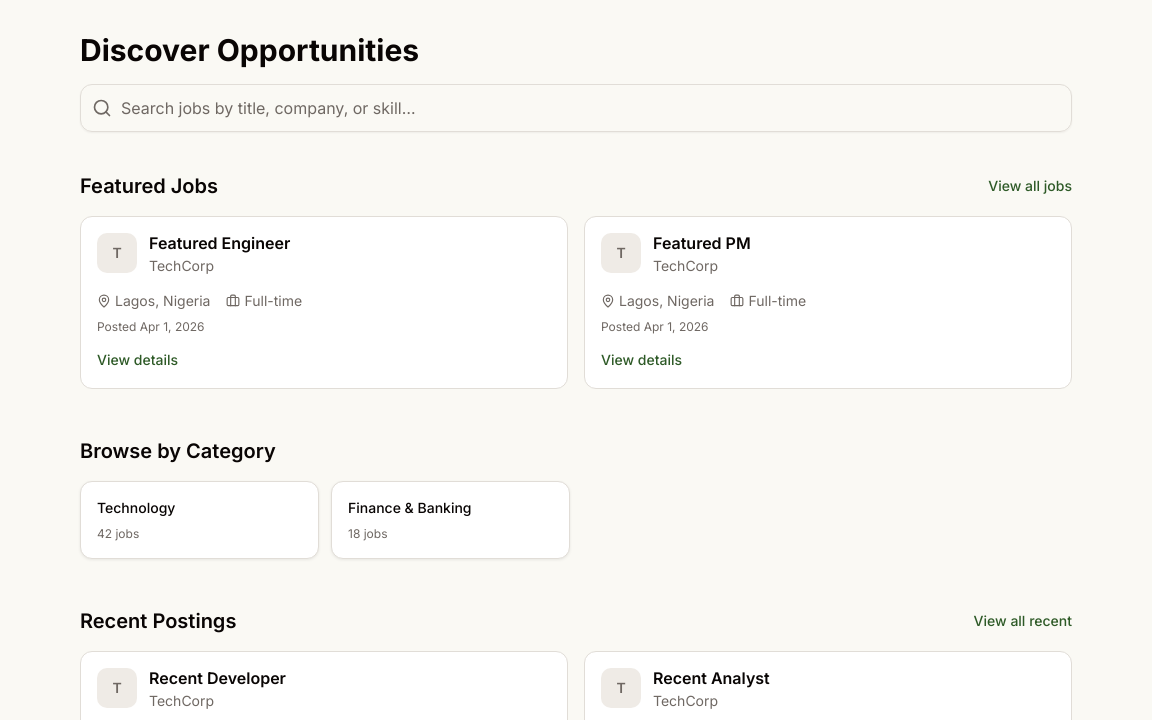
Test: JobDiscoveryPageContent — search bar › shows clear button when search input has value
This screenshot has width=1152, height=720.
Type "test" into the search field at (576, 108), box [80,84,1072,132]
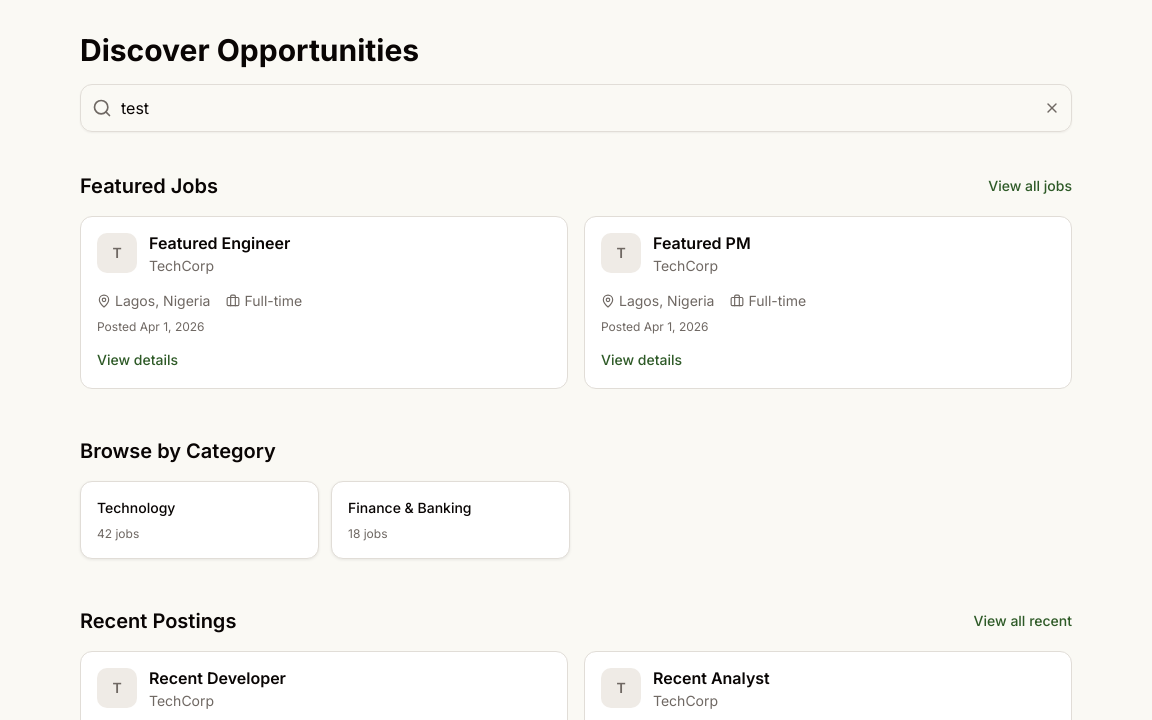
expect the button named "Clear search" is shown: met, box [1044,100,1060,116]
